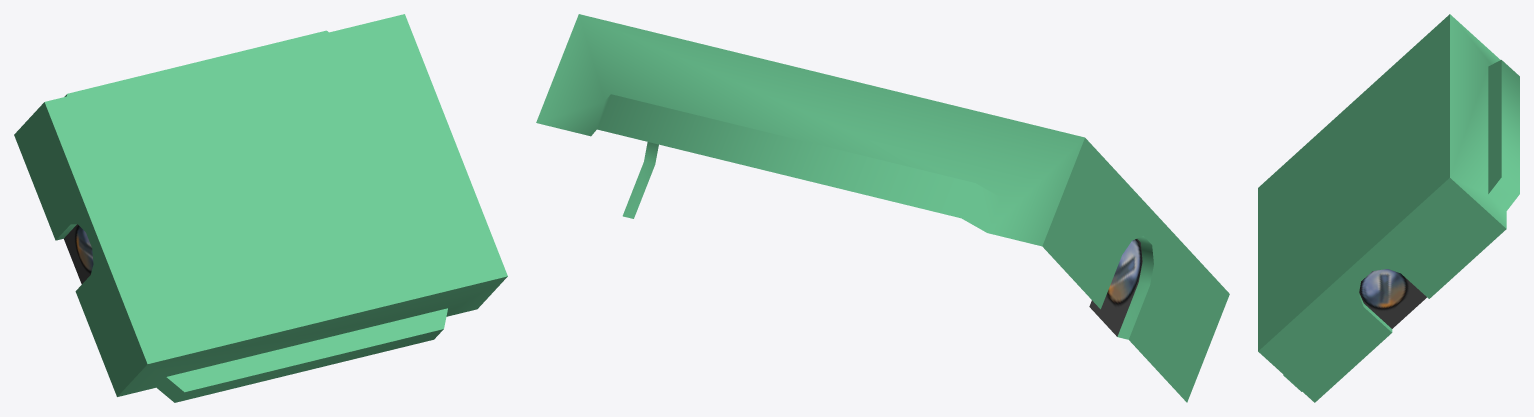
The picture shows the model from 3 angles, left to right: view 1: azimuth 30°, elevation 25°; view 2: azimuth 150°, elevation 25°; view 3: azimuth 270°, elevation 25°; orthographic projection. The views are drawn at different scales.
Visible parts, largest first — view 1: Joint_0_Object_0, Joint_0_Object_1; view 2: Joint_0_Object_0, Joint_0_Object_1; view 3: Joint_0_Object_0, Joint_0_Object_1.
Part boxes in pixels (x1,y1,x2,y2): Joint_0_Object_0: [14, 14, 507, 402]; Joint_0_Object_1: [64, 224, 93, 284]; Joint_0_Object_0: [536, 14, 1229, 402]; Joint_0_Object_1: [1089, 239, 1142, 336]; Joint_0_Object_0: [1258, 14, 1519, 402]; Joint_0_Object_1: [1359, 269, 1426, 328].
Bounding box in the file's own units: 241 × 163 × 163.
Materials: 2 (1 with a texture image).
